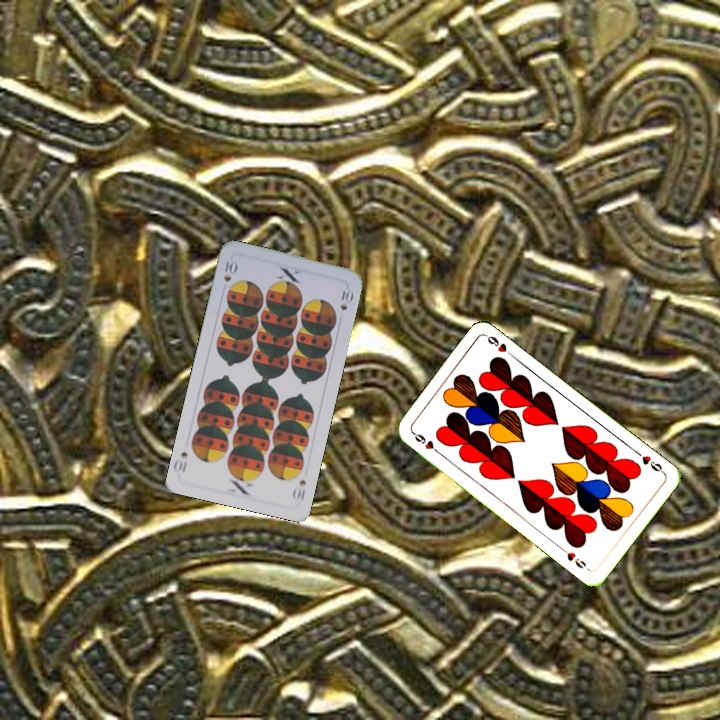H9: (632, 447, 667, 476), (409, 428, 443, 457)
S10: (219, 257, 240, 284), (289, 475, 308, 502)
